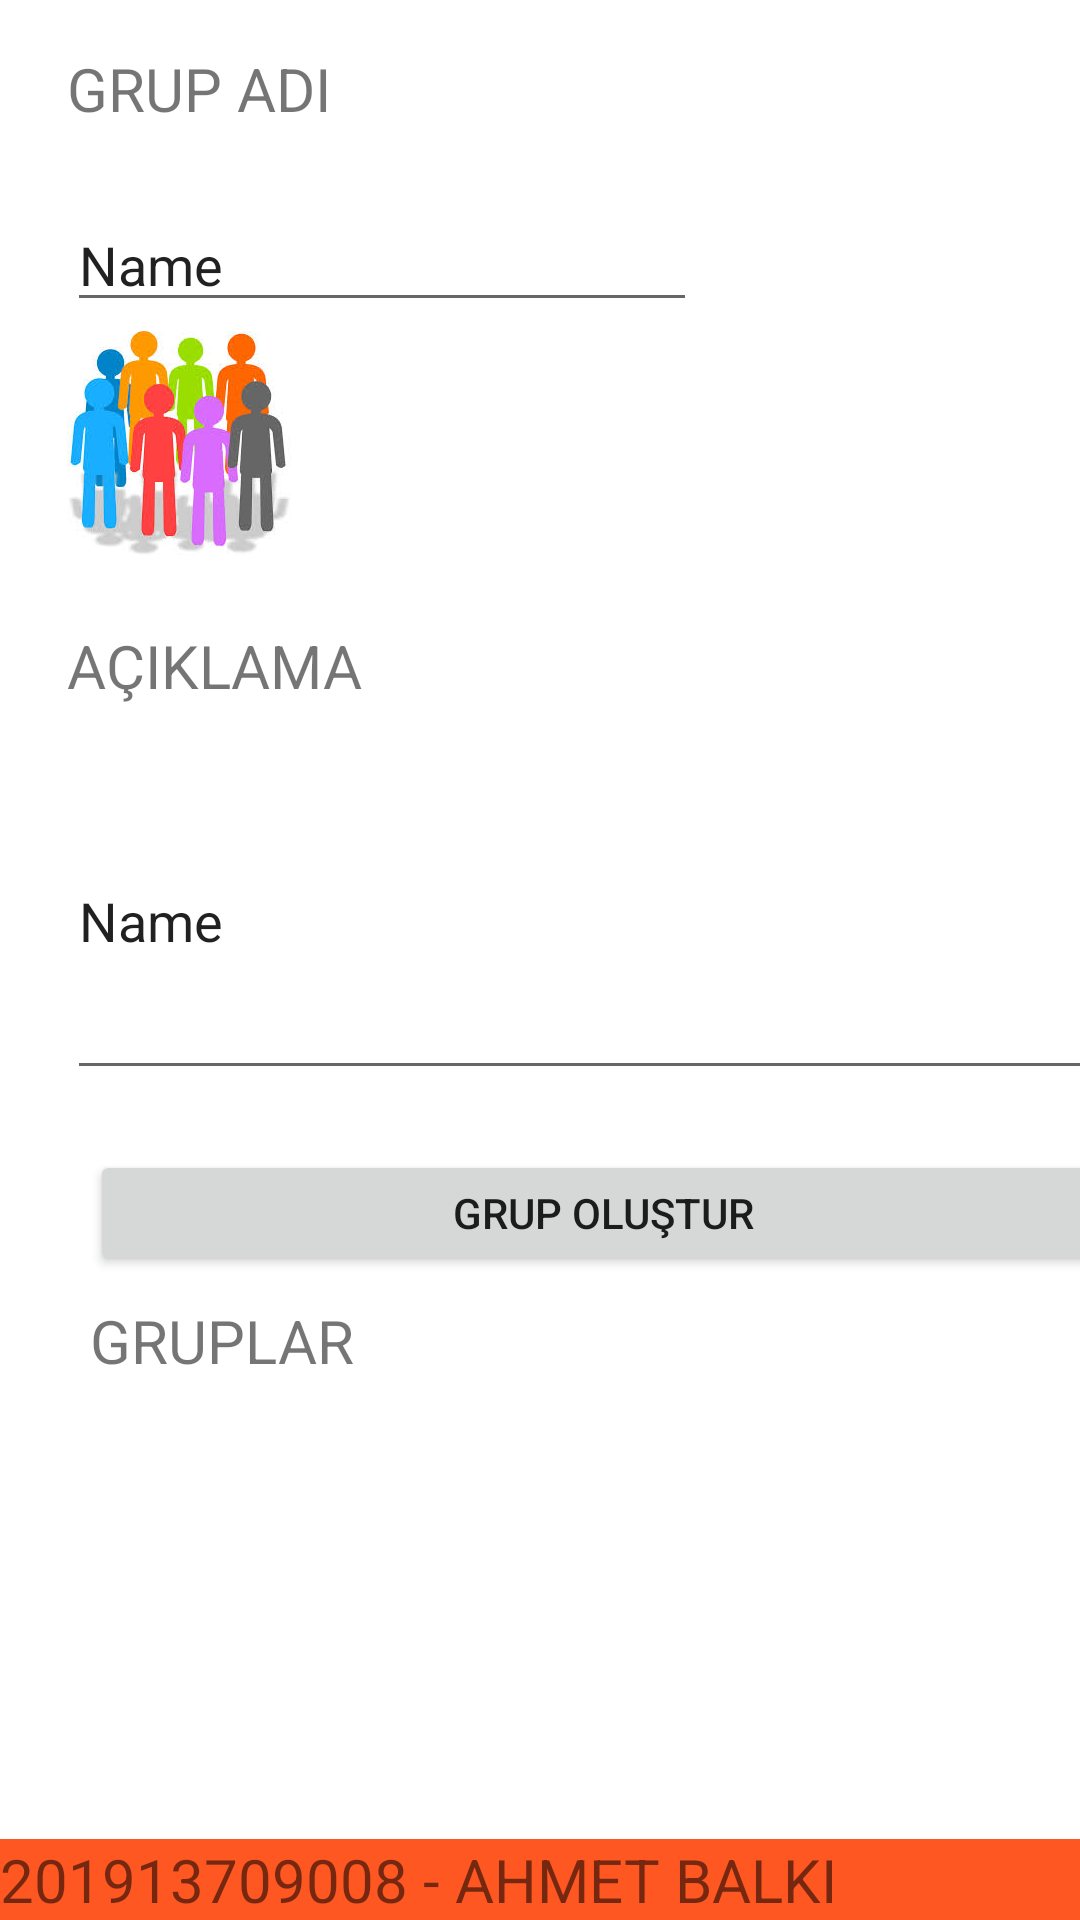

Where to tap for icons on this 1080 × 1920 app screen, as [x,y]:
grup: [177,442]
